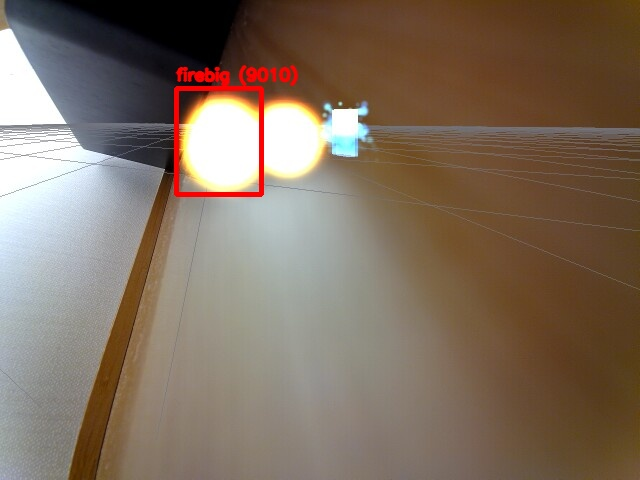firebig: (176, 88, 261, 194)
